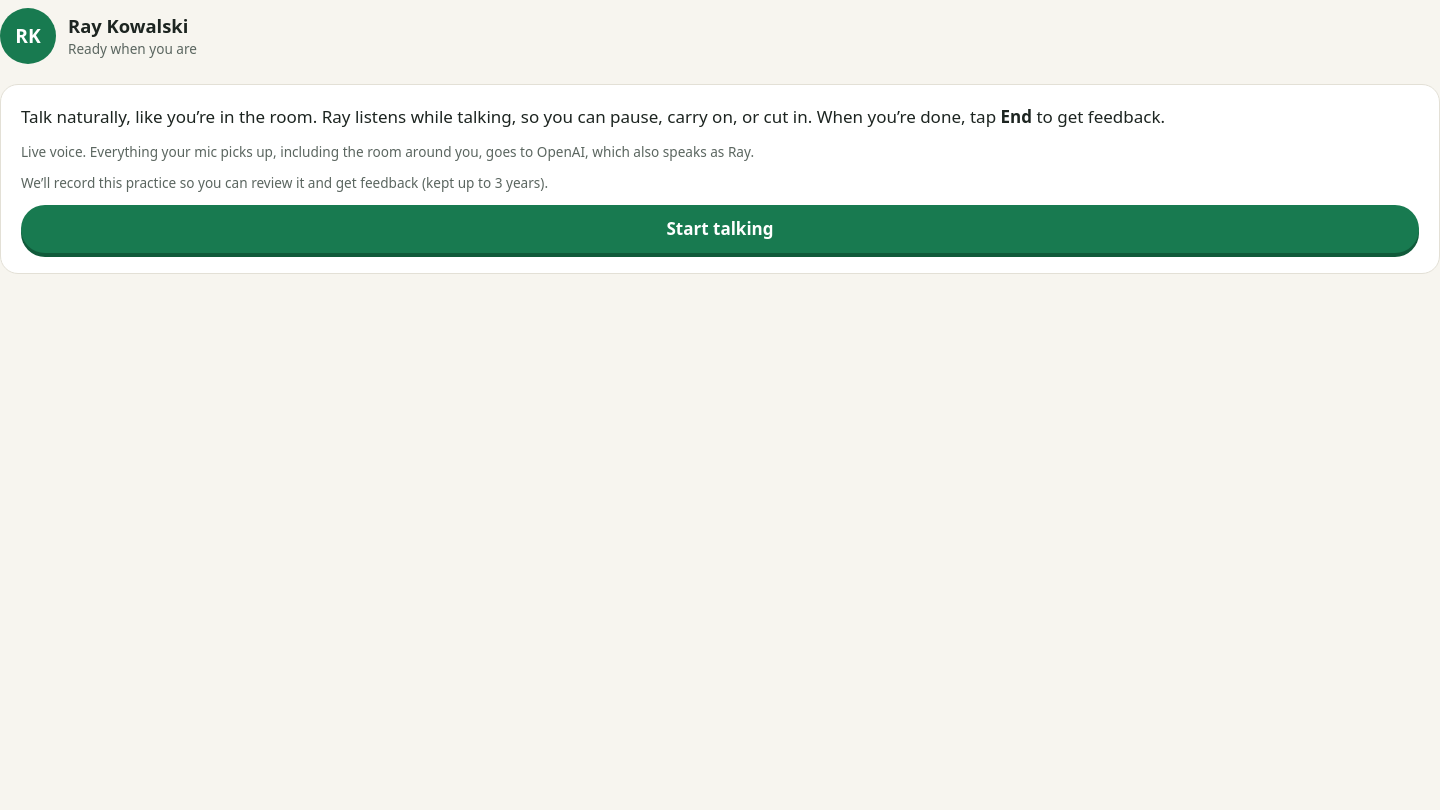
Test case: GPT-Live conversation › has GPT-Live say the opening line, then answers each request with Claude’s words and tone
This screenshot has width=1440, height=810.
Click the button "Start talking": point(720, 229) x1=21 y1=205 x2=1419 y2=253
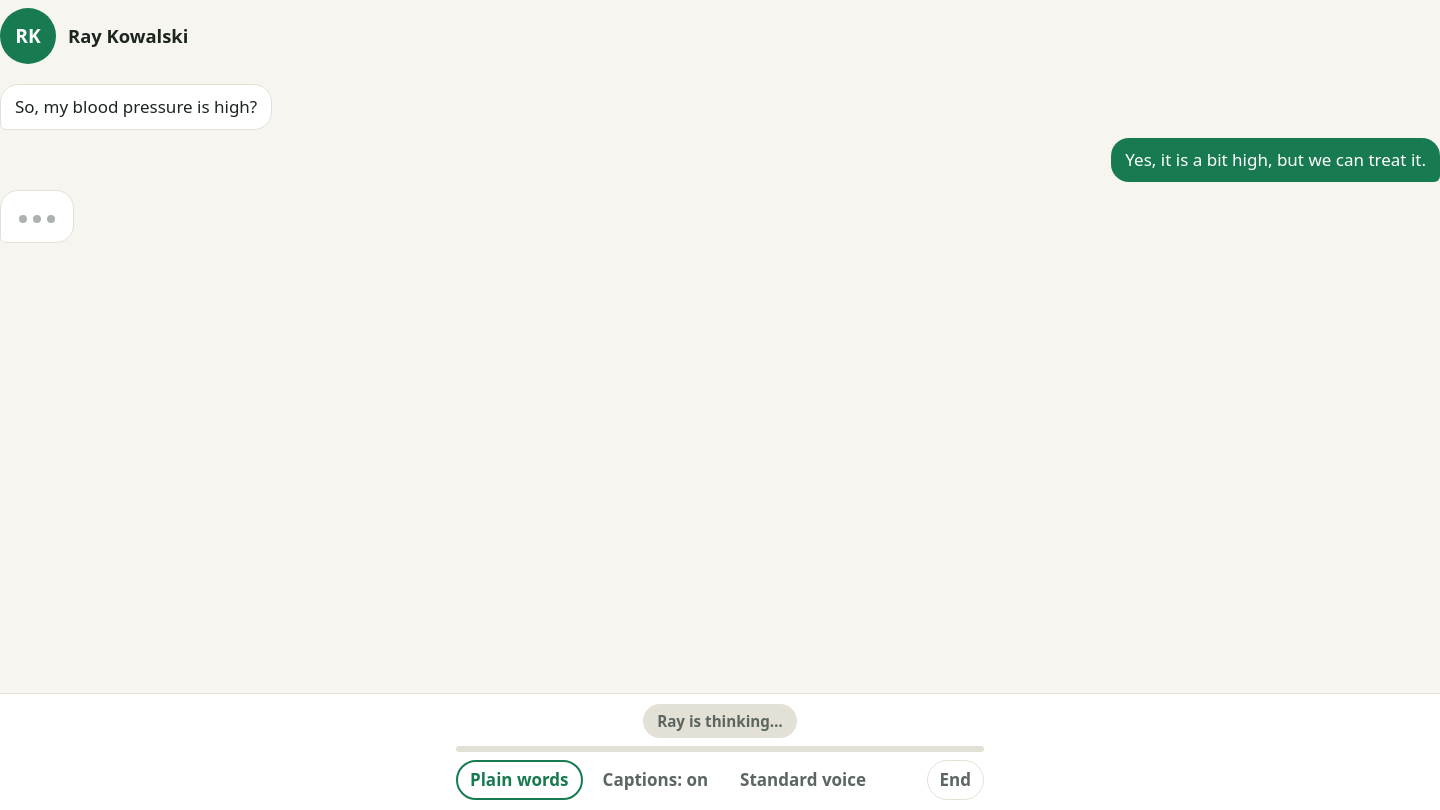
Expected: the text "Ray is getting ready…" is shown, x1=643 y1=704 x2=797 y2=738
Expected: the text "So, my blood pressure is high?" is shown, x1=0 y1=84 x2=272 y2=130
